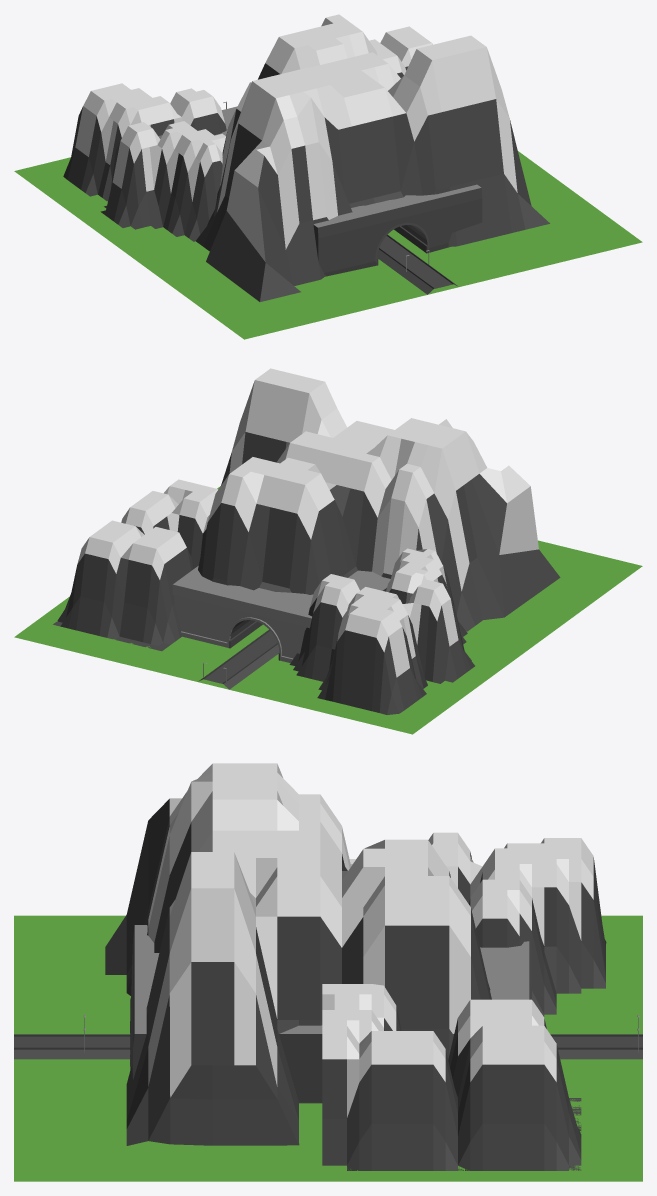
The picture shows the model from 3 angles, top to bottom: view 1: azimuth 30°, elevation 25°; view 2: azimuth 150°, elevation 25°; view 3: azimuth 270°, elevation 25°; orthographic projection. The views are drawn at different scales.
Visible parts, largest first — view 1: Plane.003; view 2: Plane.003; view 3: Plane.003.
Boxes of the visible parts, <box> form: Plane.003: <box>14,14,642,339</box>; Plane.003: <box>14,368,642,734</box>; Plane.003: <box>14,763,642,1181</box>.
Bounding box in the file's own units: 20000 × 8152 × 20000.
